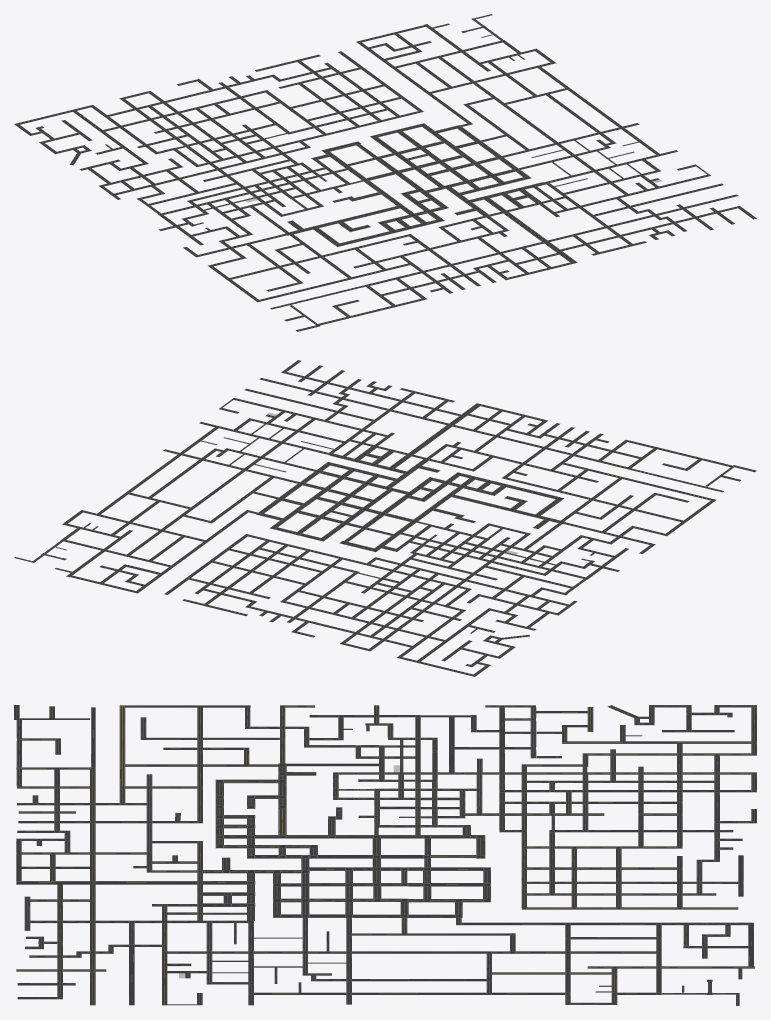
The model's file is road.obj.
3 renders of one model, top to bottom at view 1: azimuth 30°, elevation 25°; view 2: azimuth 150°, elevation 25°; view 3: azimuth 270°, elevation 25°, orthographic. The views are drawn at different scales.
Visible parts, largest first — view 1: no part large enough to name; view 2: no part large enough to name; view 3: Straight434, Straight146.
Part boxes in pixels (x1,y1,x2,y2): Straight434: (119, 705, 125, 786); Straight146: (562, 741, 751, 743).
Size of the model in its own units: 4869 by 3.32 by 5081.
